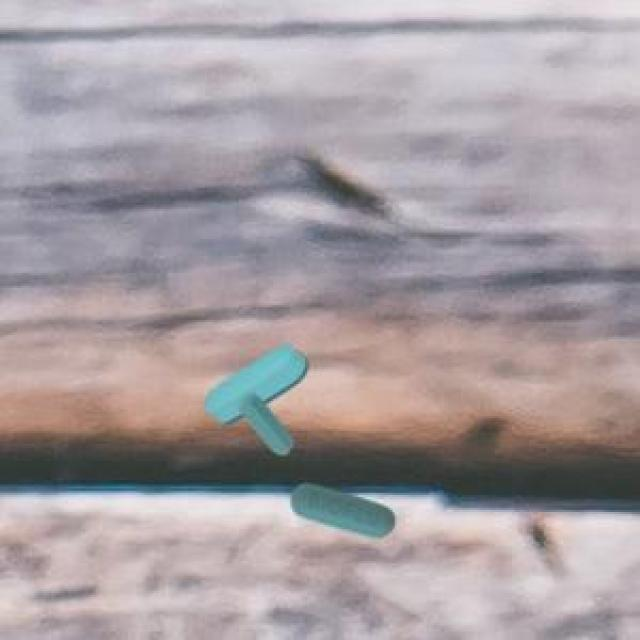Bioflu: (196, 336, 314, 462), (282, 470, 400, 551)
